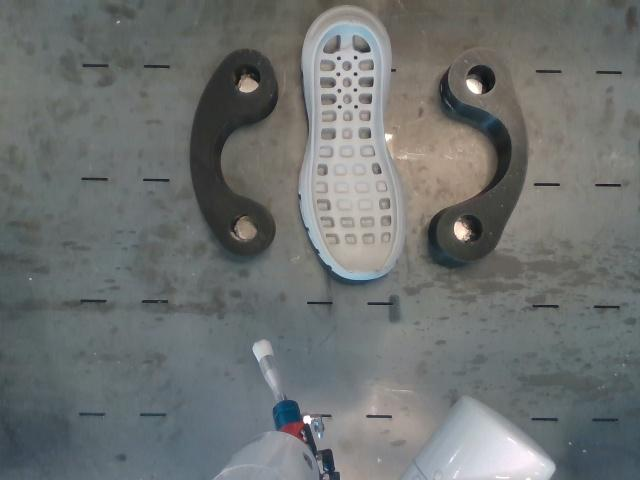shoes: (311, 23, 398, 272)
